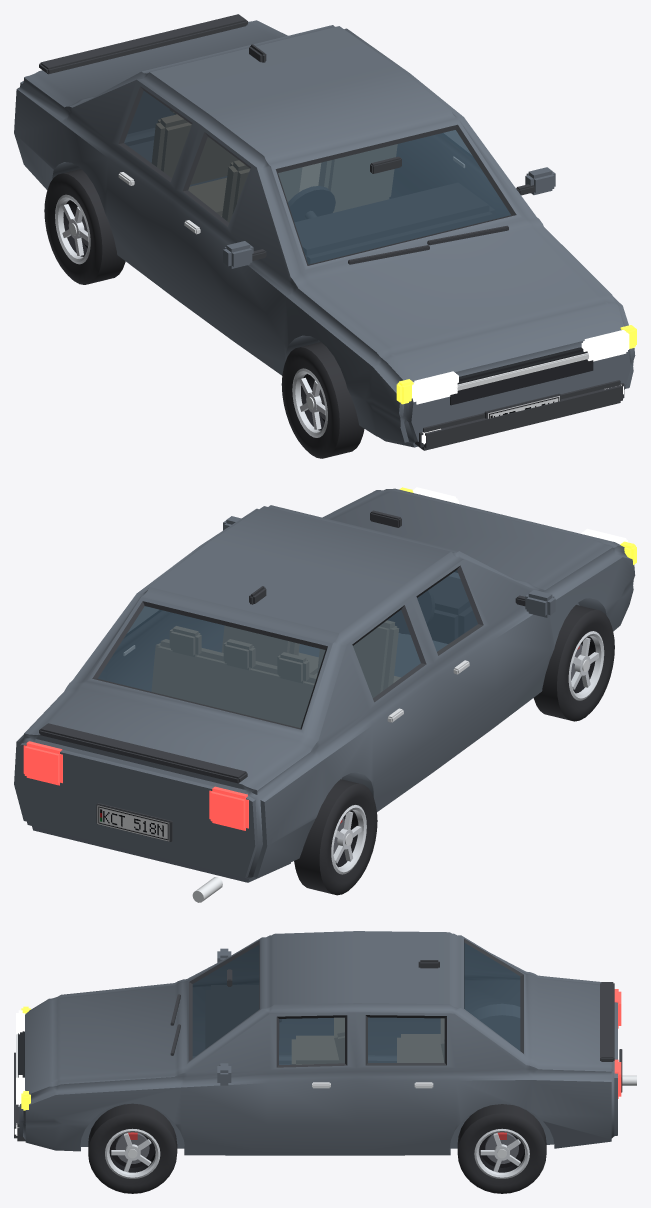
File: Kenya_Saloon_Taxi_Sedan.glb
The picture shows the model from 3 angles, top to bottom: view 1: azimuth 30°, elevation 25°; view 2: azimuth 150°, elevation 25°; view 3: azimuth 270°, elevation 25°; orthographic projection. The views are drawn at different scales.
Visible parts, largest first — view 1: Sedan_Body, CabinDashCowl.004, Wheel_FR.004, Wheel_RR.004, LowerIntake, SeatBack_0_-0.32, TrunkLipSpoiler, SedanGrille, BenchBack_1.004, SeatBack_0_0.32, BenchCush_1.004, CabinSteerRim.004 (+5 smaller); view 2: Sedan_Body, BenchBack_1.004, Wheel_RR.004, Wheel_FR.004, TrunkLipSpoiler, SeatBack_0_0.32, CabinDashCowl.004, Tail_-1.004, Tail_1.004, PlateRearTex.004, SeatBack_0_-0.32, BenchHead_1_0.004 (+4 smaller); view 3: Sedan_Body, Wheel_FL.004, Wheel_RL.004, CabinDashCowl.004, BenchCush_1.004, SeatCush_0_0.32, TrunkLipSpoiler, SeatBack_0_-0.32.
Boxes of the visible parts, <box> form: Sedan_Body: <box>14,20,635,447</box>; CabinDashCowl.004: <box>294,183,494,264</box>; Wheel_FR.004: <box>281,342,364,458</box>; Wheel_RR.004: <box>44,169,125,284</box>; LowerIntake: <box>415,380,624,450</box>; SeatBack_0_-0.32: <box>318,144,397,212</box>; TrunkLipSpoiler: <box>39,14,247,74</box>; SedanGrille: <box>450,347,593,405</box>; BenchBack_1.004: <box>152,114,237,184</box>; SeatBack_0_0.32: <box>222,160,301,222</box>; BenchCush_1.004: <box>188,163,320,216</box>; CabinSteerRim.004: <box>288,186,335,221</box>; Sedan_Body: <box>14,488,635,882</box>; BenchBack_1.004: <box>152,639,316,727</box>; Wheel_RR.004: <box>294,779,377,895</box>; Wheel_FR.004: <box>533,605,614,721</box>; TrunkLipSpoiler: <box>39,723,247,783</box>; SeatBack_0_0.32: <box>317,620,398,697</box>; CabinDashCowl.004: <box>427,576,477,643</box>; Tail_-1.004: <box>23,741,62,785</box>; Tail_1.004: <box>209,786,248,830</box>; PlateRearTex.004: <box>97,805,169,841</box>; SeatBack_0_-0.32: <box>222,626,299,665</box>; BenchHead_1_0.004: <box>224,639,255,669</box>; Sedan_Body: <box>19,931,617,1155</box>; Wheel_FL.004: <box>88,1103,177,1193</box>; Wheel_RL.004: <box>457,1104,546,1193</box>; CabinDashCowl.004: <box>205,985,258,1048</box>; BenchCush_1.004: <box>397,1034,443,1062</box>; SeatCush_0_0.32: <box>292,1036,339,1064</box>; TrunkLipSpoiler: <box>600,982,614,1061</box>; SeatBack_0_-0.32: <box>334,1018,344,1062</box>.
Size of the model in its own units: 2.18 by 1.49 by 4.62.
17 materials, 1 textured.
